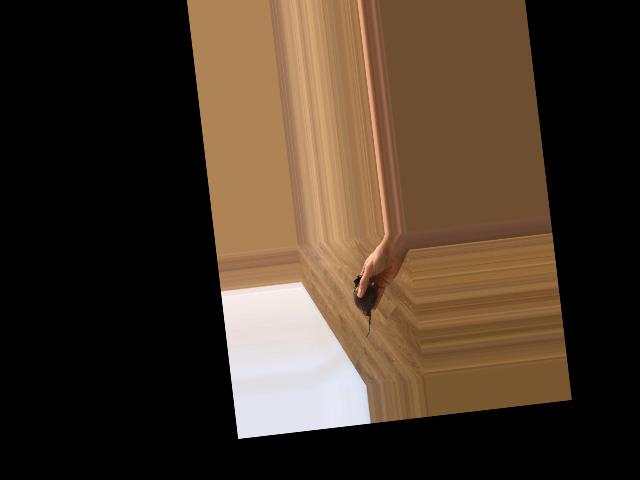beet: (351, 274, 380, 338)
